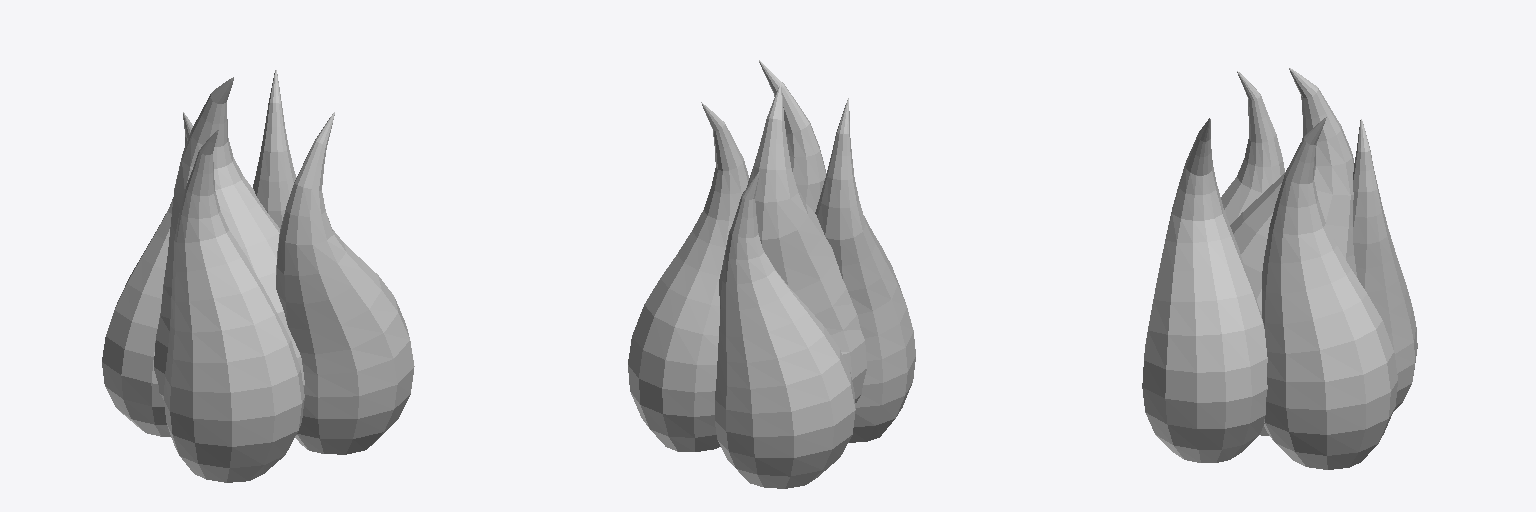
File: fire_000007.obj
3 views of the same model, side by side, from view 1: azimuth 30°, elevation 25°; view 2: azimuth 150°, elevation 25°; view 3: azimuth 270°, elevation 25° (orthographic).
Visible parts, largest first — view 1: flame_NurbsPath.015; view 2: flame_NurbsPath.015; view 3: flame_NurbsPath.015.
Boxes of the visible parts, x1=… form: flame_NurbsPath.015: x1=102, y1=70, x2=414, y2=482; flame_NurbsPath.015: x1=628, y1=60, x2=915, y2=488; flame_NurbsPath.015: x1=1142, y1=68, x2=1417, y2=469.
Bounding box in the file's own units: 0.7551 × 1.15 × 0.798.